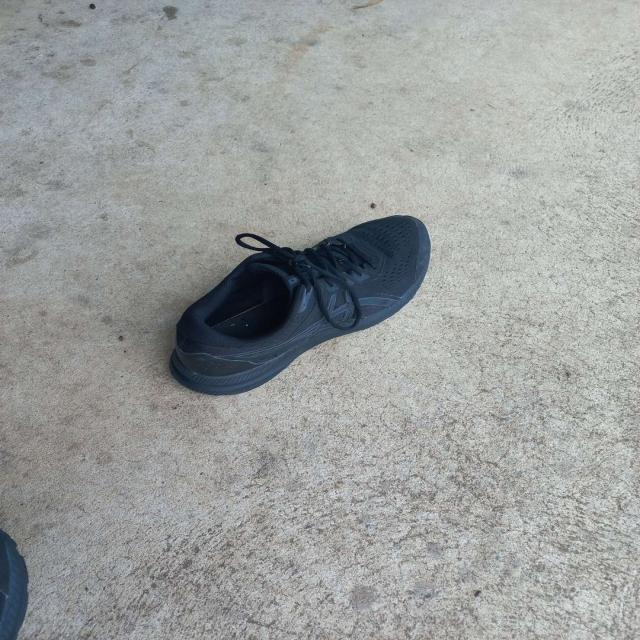shoes: (168, 214, 432, 396)
